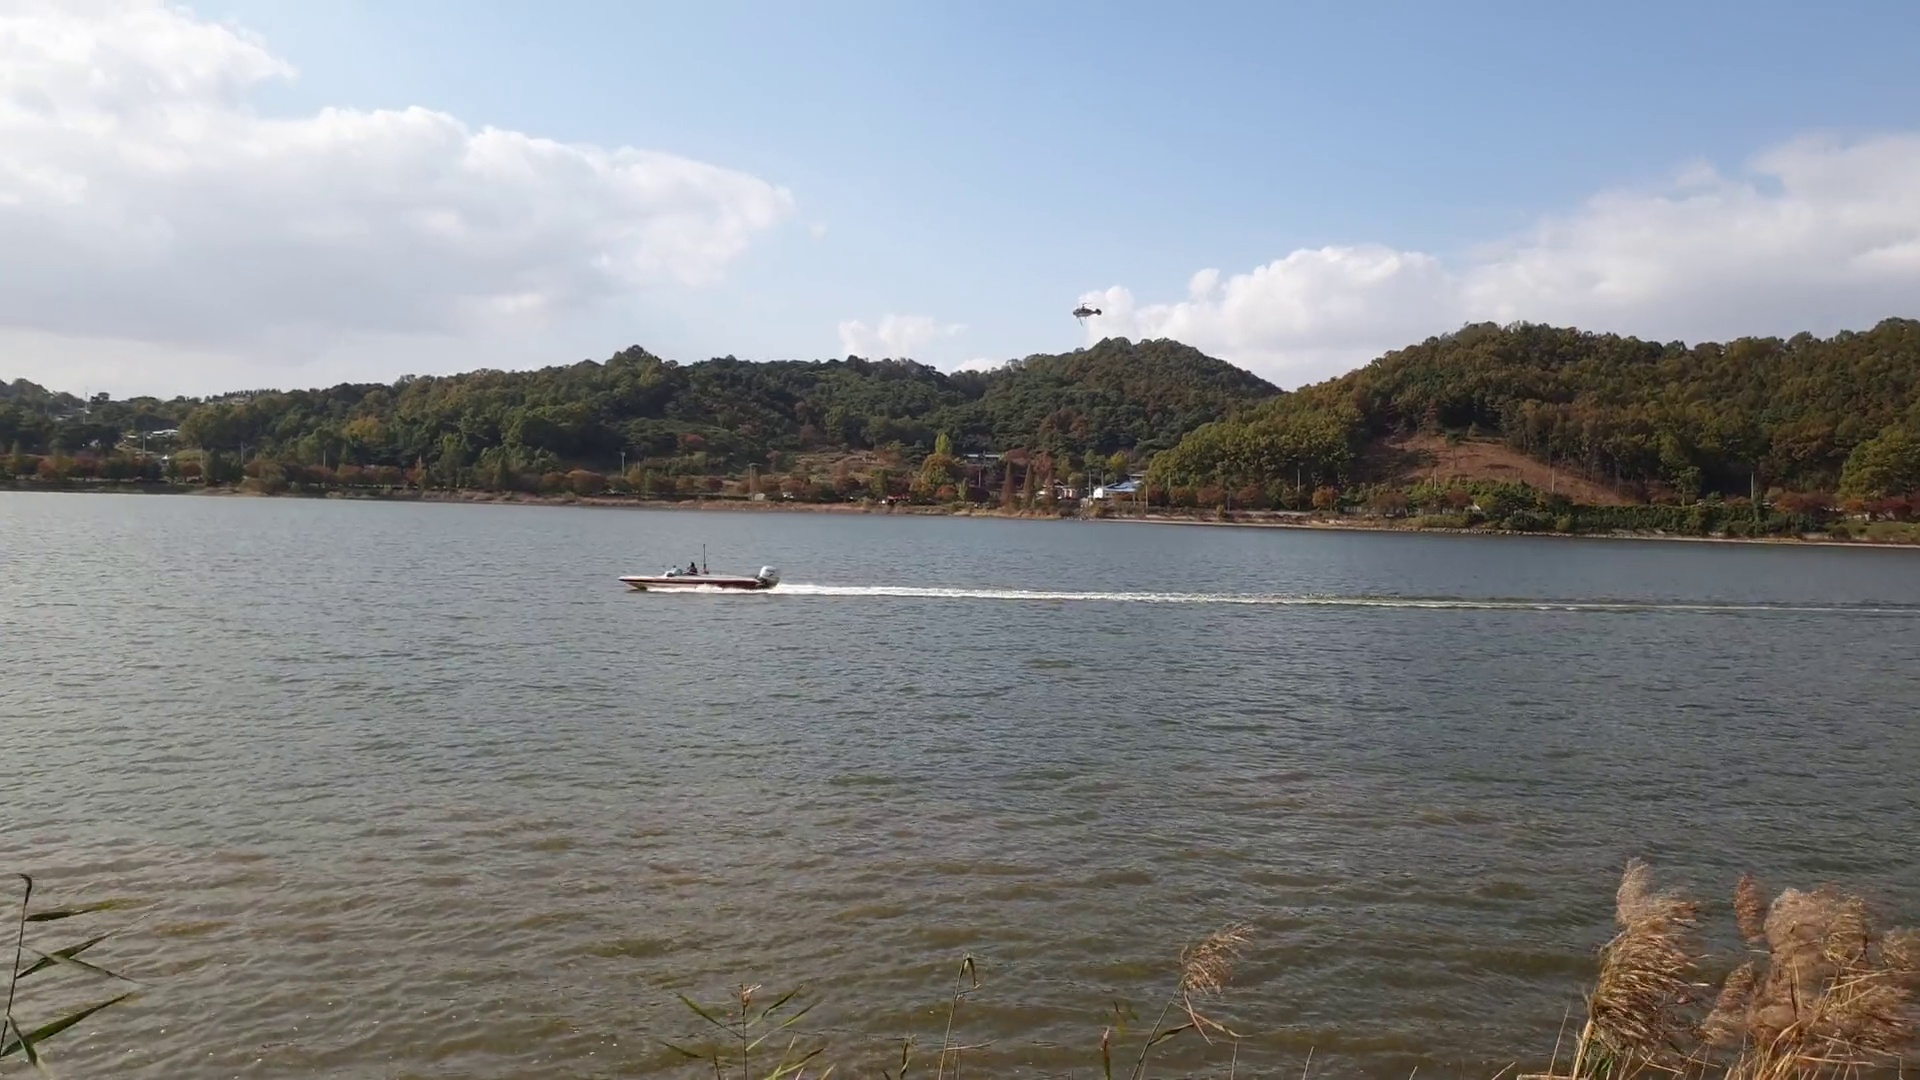heli: (1073, 301, 1101, 318)
